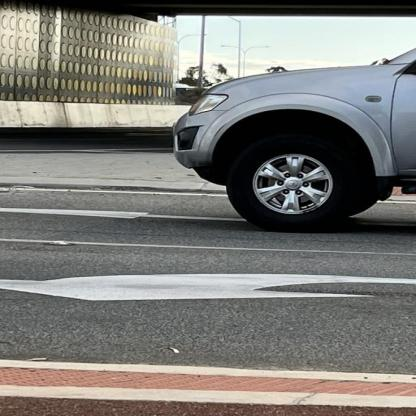Tire: (227, 133, 362, 233)
